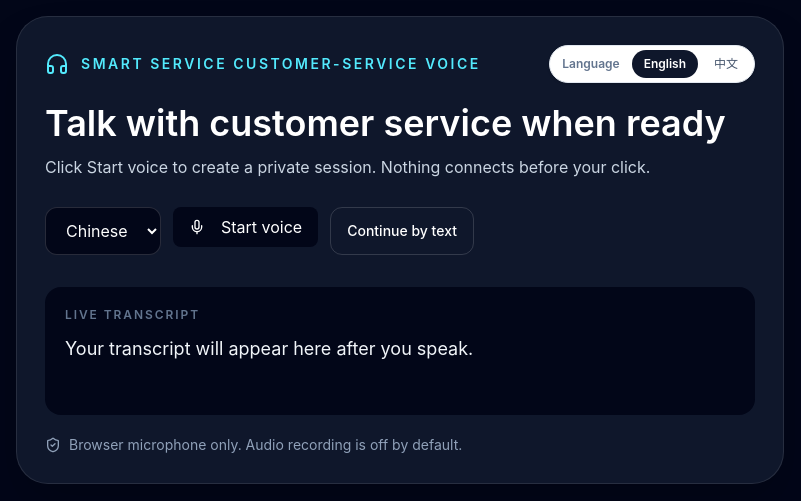
Test case: VoiceExperience › fails closed when a public deployment returns a mock voice provider
This screenshot has width=801, height=501.
Step 1. Click the button "Start voice" → (246, 227), box top-left (173, 207), bottom-right (318, 247)
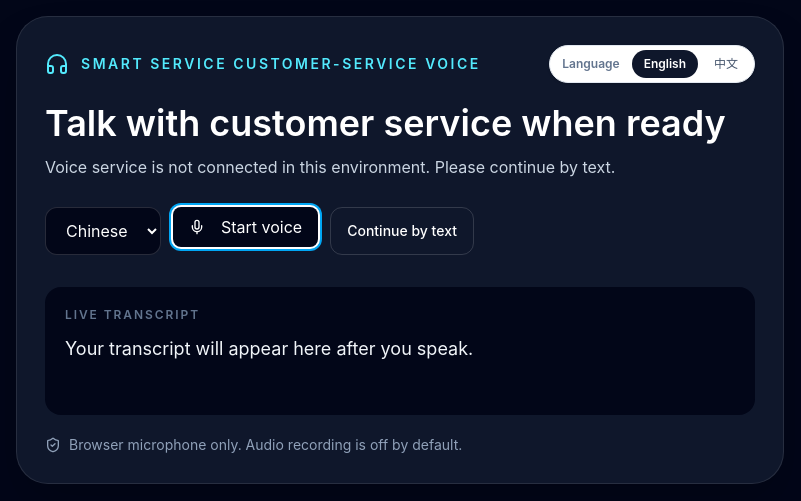
Expected: the message shows "Voice service is not connected in this environment", top-left (45, 157), bottom-right (616, 177)
